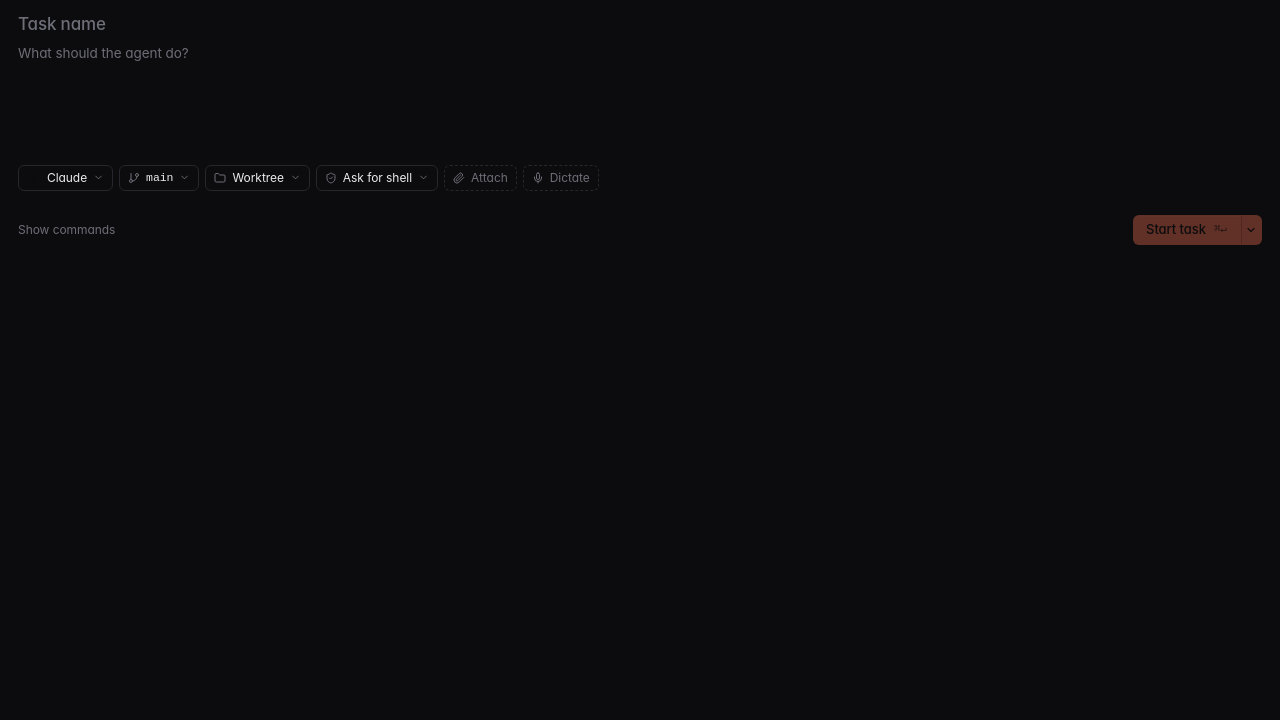
NewTaskForm › opens the branch list from the chip and commits a clicked branch
Click the button with aria-label "Base branch: main" at [159, 178], box [119,165,200,191]
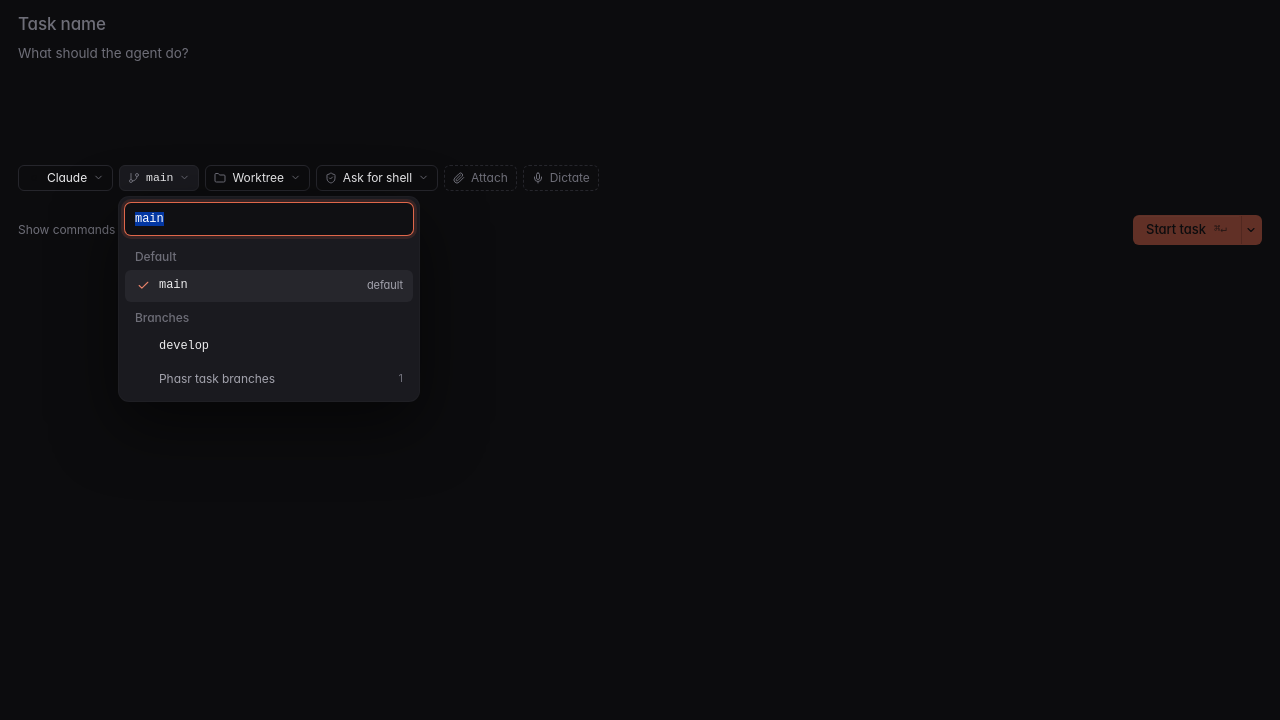
Click the option "develop" at [184, 346], box [159,339,209,353]
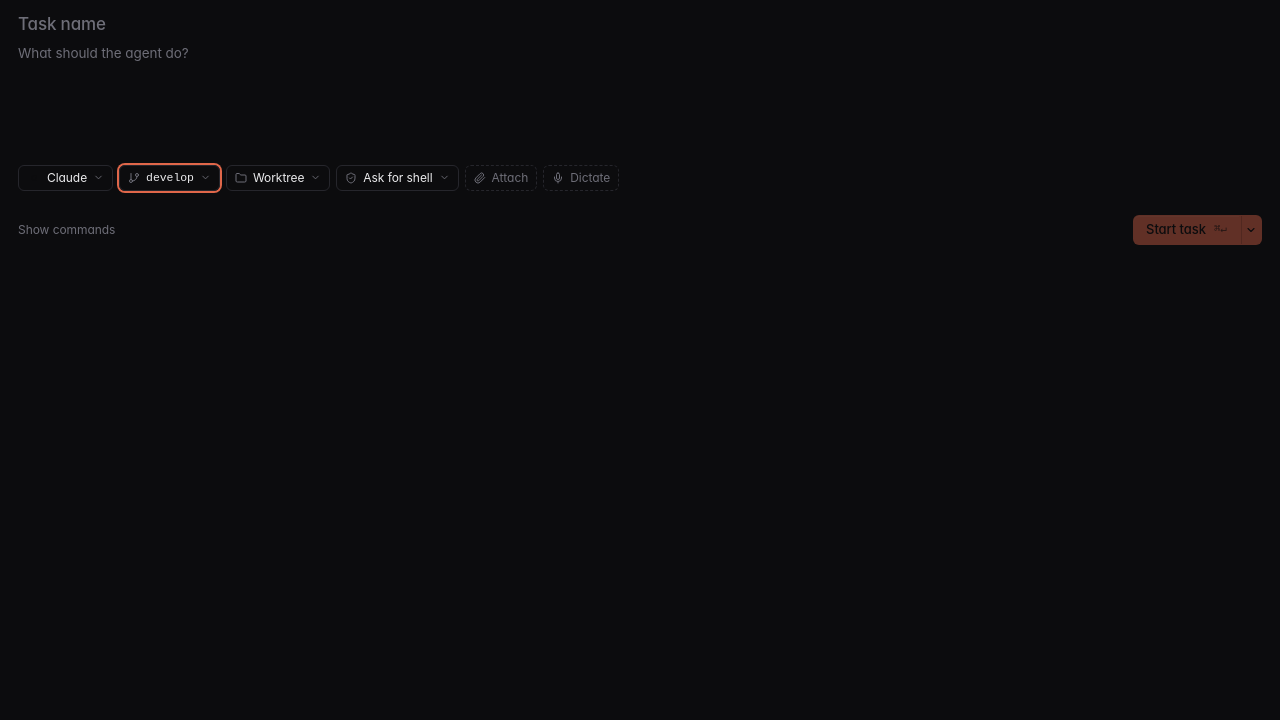
expect the list is gone: met
expect the button with aria-label "Base branch: develop" is shown: met, box [119,165,220,191]
